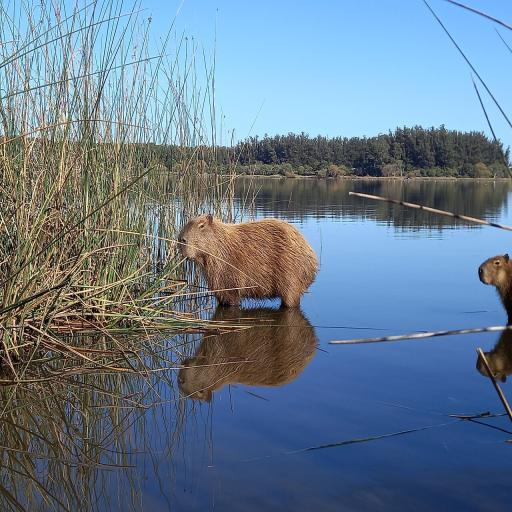capybara: (178, 307, 317, 402), (179, 215, 318, 307), (479, 254, 511, 324), (476, 356, 488, 376)
